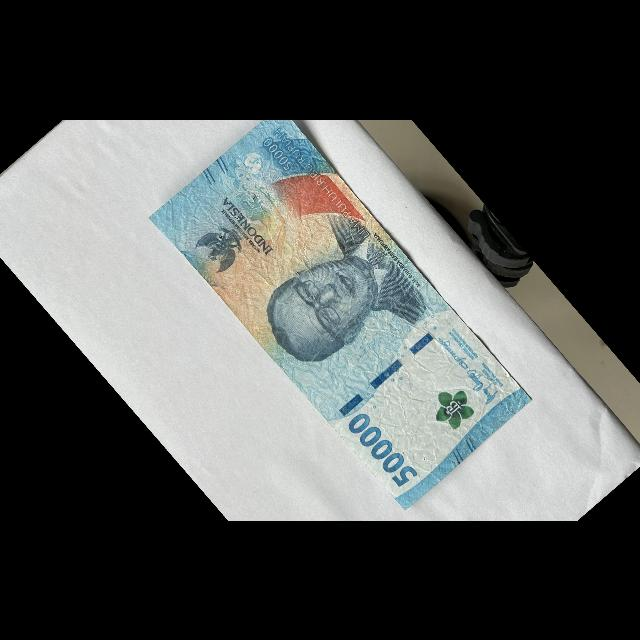Palsu-50k: (144, 101, 537, 516)
Tinta-Palsu-50k: (423, 378, 480, 435)
